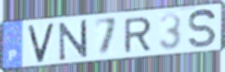3: (158, 10, 184, 53)
7: (93, 18, 119, 58)
N: (57, 18, 89, 63)
R: (123, 15, 153, 55)
S: (187, 8, 218, 50)
V: (26, 21, 56, 64)
